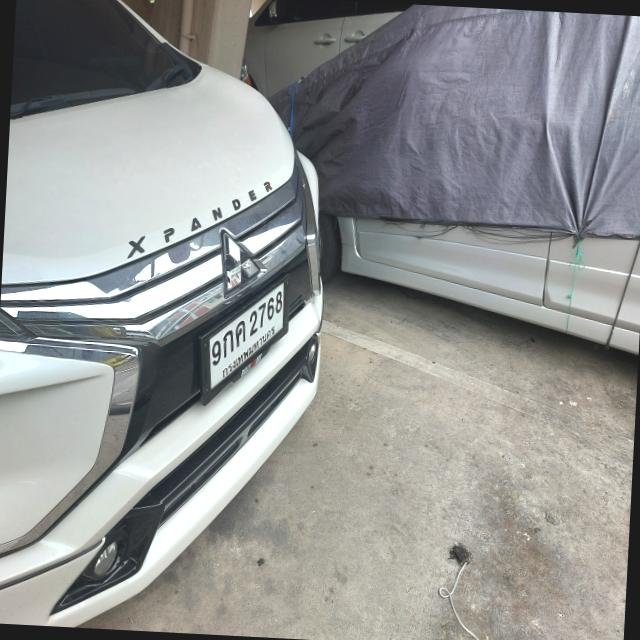license_plate: (198, 266, 292, 412)
